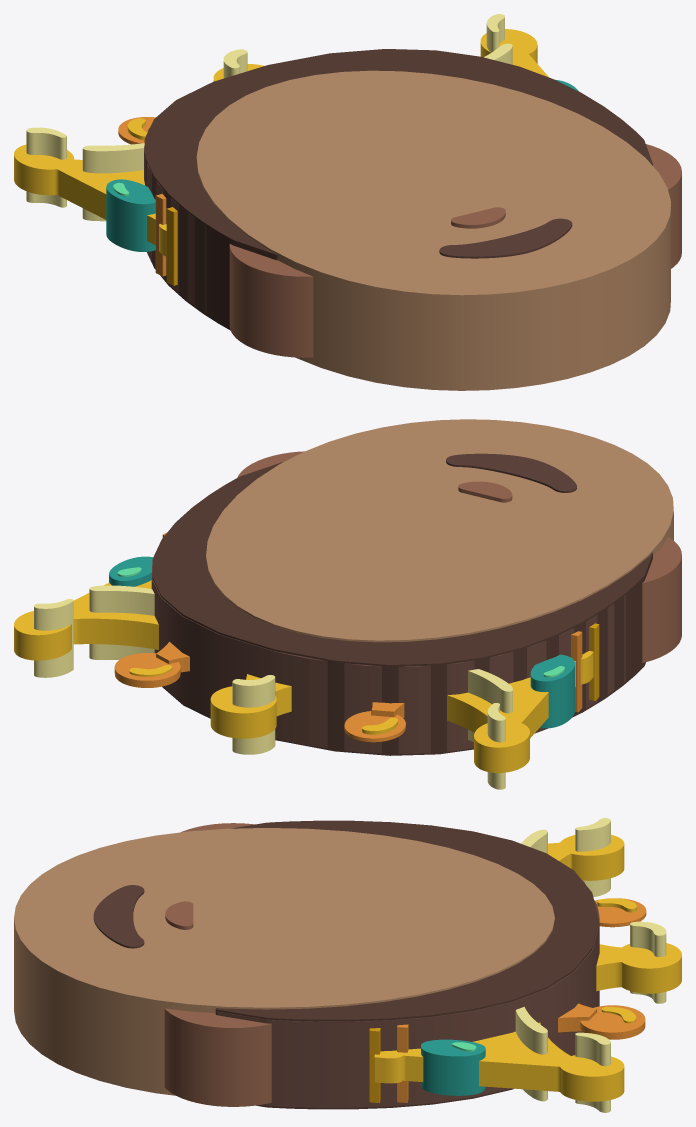
Rendered from emoji_u1f934_1f3fd.glb.
3 views of the same model, one above another, from view 1: azimuth 30°, elevation 25°; view 2: azimuth 150°, elevation 25°; view 3: azimuth 270°, elevation 25° (orthographic). The views are drawn at different scales.
Visible parts, largest first — view 1: emoji_u1f934_1f3fd; view 2: emoji_u1f934_1f3fd; view 3: emoji_u1f934_1f3fd.
Part boxes in pixels (left/top/right/bottom): emoji_u1f934_1f3fd: left=14, top=14, right=681, bottom=390; emoji_u1f934_1f3fd: left=14, top=419, right=681, bottom=789; emoji_u1f934_1f3fd: left=14, top=818, right=681, bottom=1112.
Bounding box in the file's own units: 0.0292 × 0.0056 × 0.0338.
